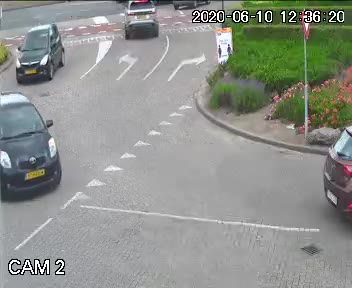car: (0, 89, 64, 200), (16, 23, 69, 88), (116, 0, 159, 46)
